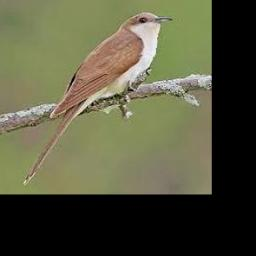Cuckoo: (23, 12, 174, 185)
